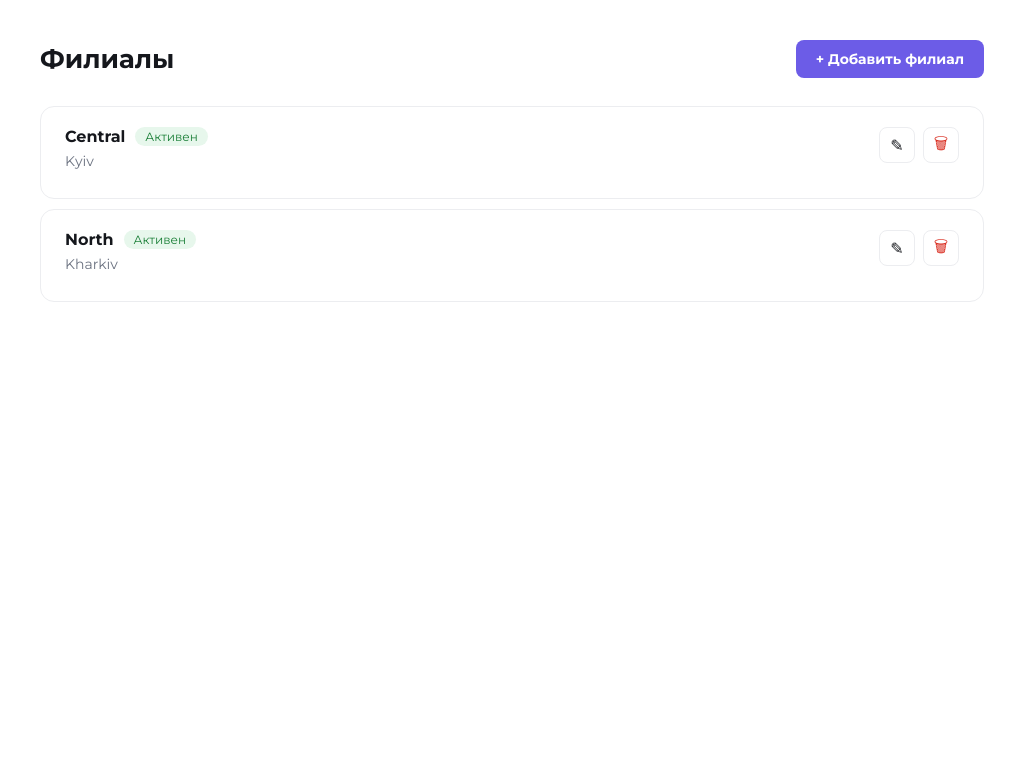
it: BranchesPage › opens the create modal
Expected: the text "Central" is shown, [65,127,125,146]
Step 1. Click the button "+ Добавить филиал" → (890, 59), box [796,40,984,78]
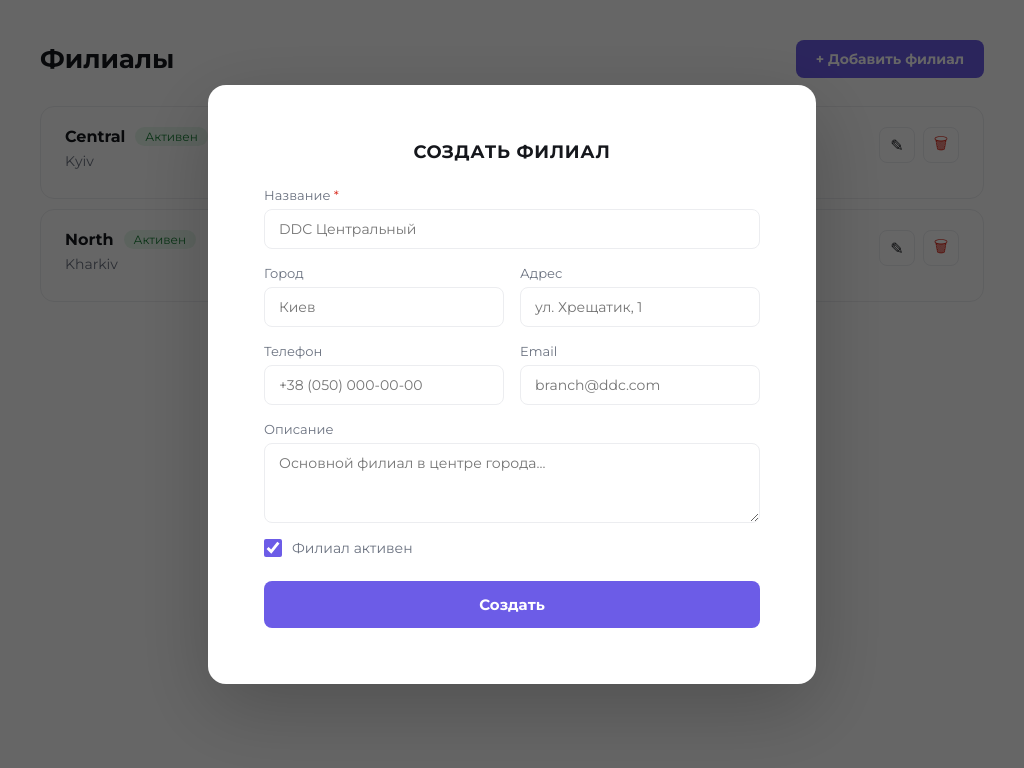
Now the heading "СОЗДАТЬ ФИЛИАЛ" is shown, box [413,140,611,162]
